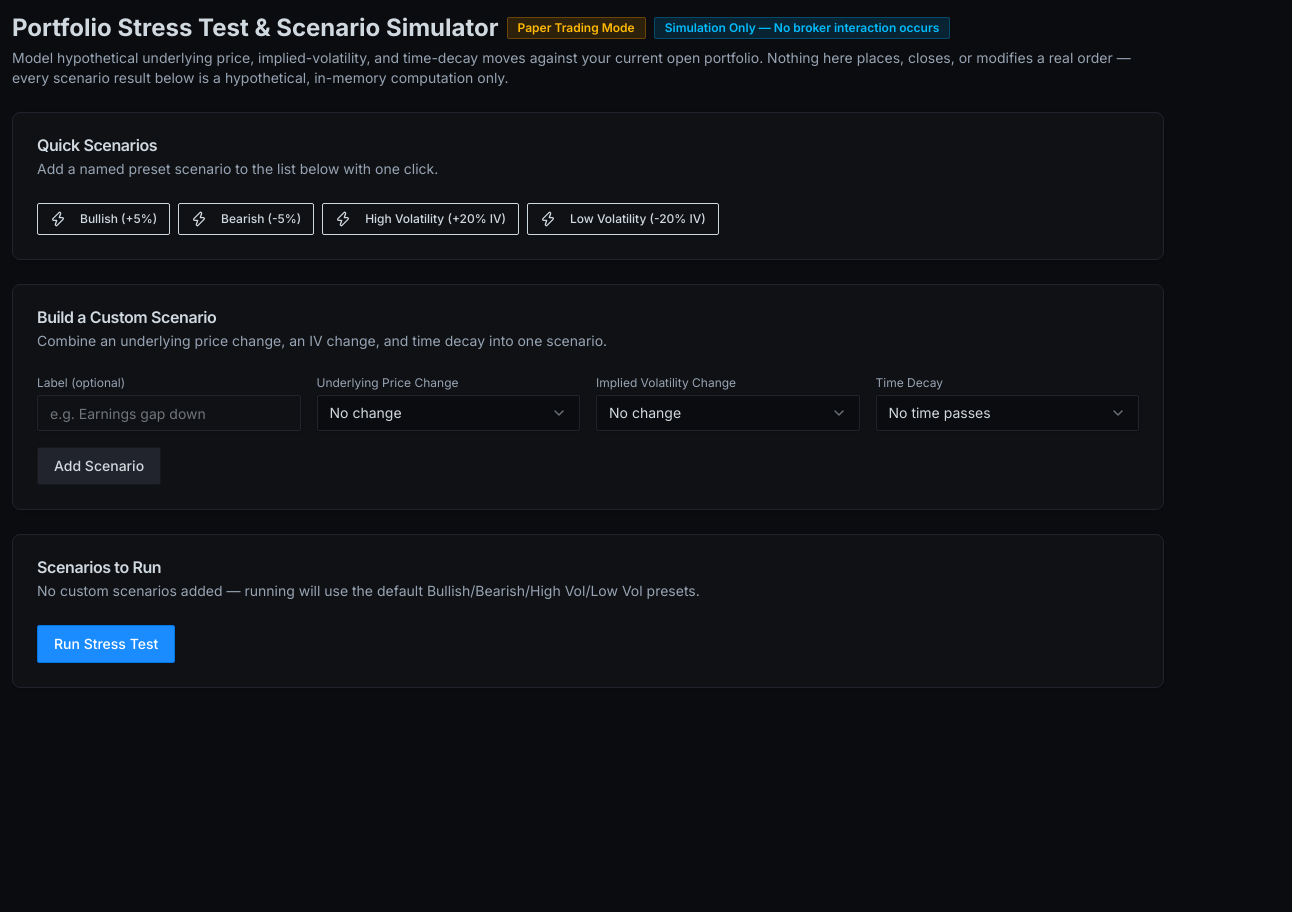
Test case: PortfolioStressTest page › removing a queued scenario removes it from the list
Step 1. Click the button with test id "button-quick-scenario-Bearish-5-" → (246, 219), box x1=178 y1=203 x2=314 y2=235
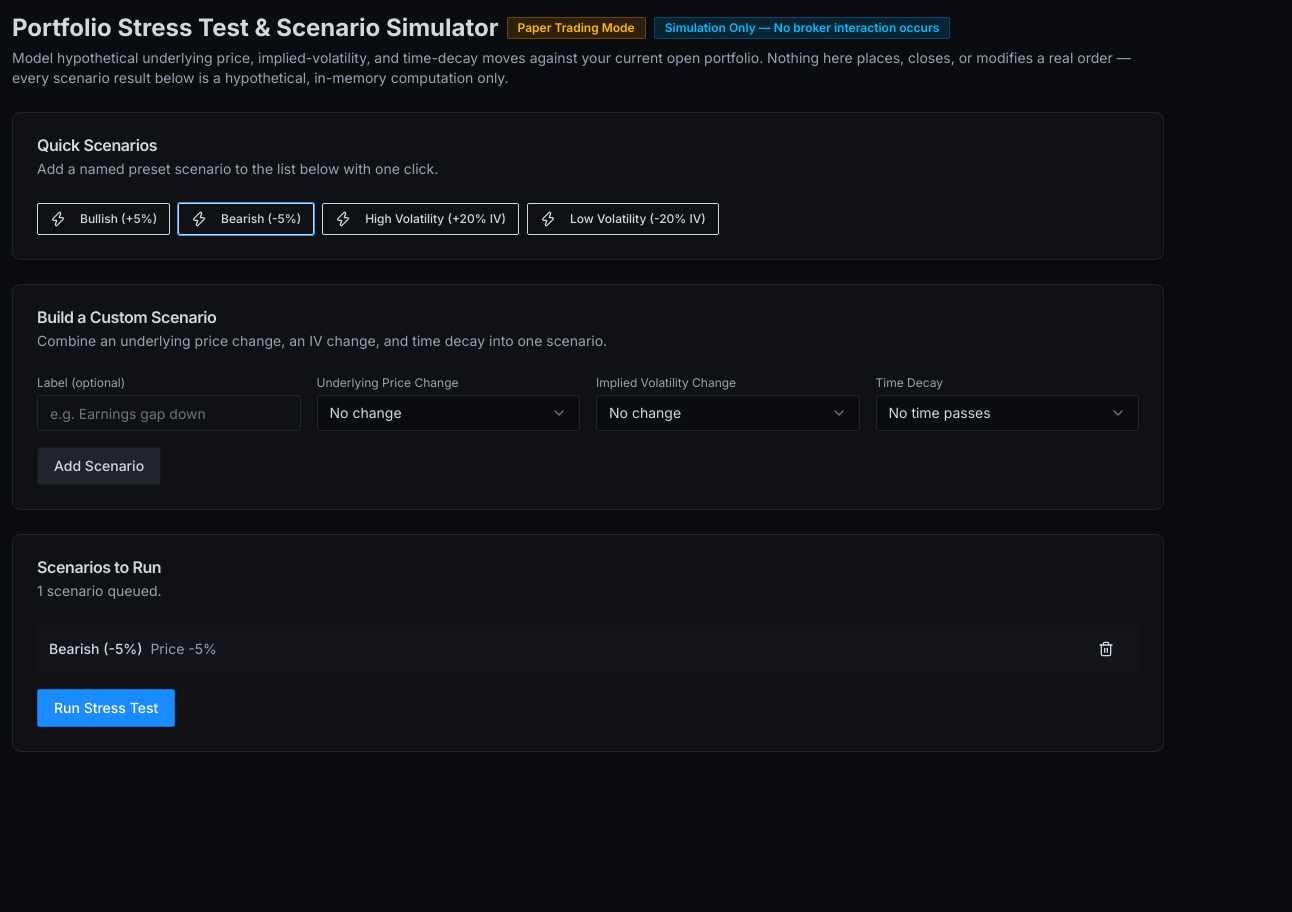
Step 2. Click the button with test id "^button-remove-scenario-" → (1106, 649), box x1=1085 y1=633 x2=1127 y2=665
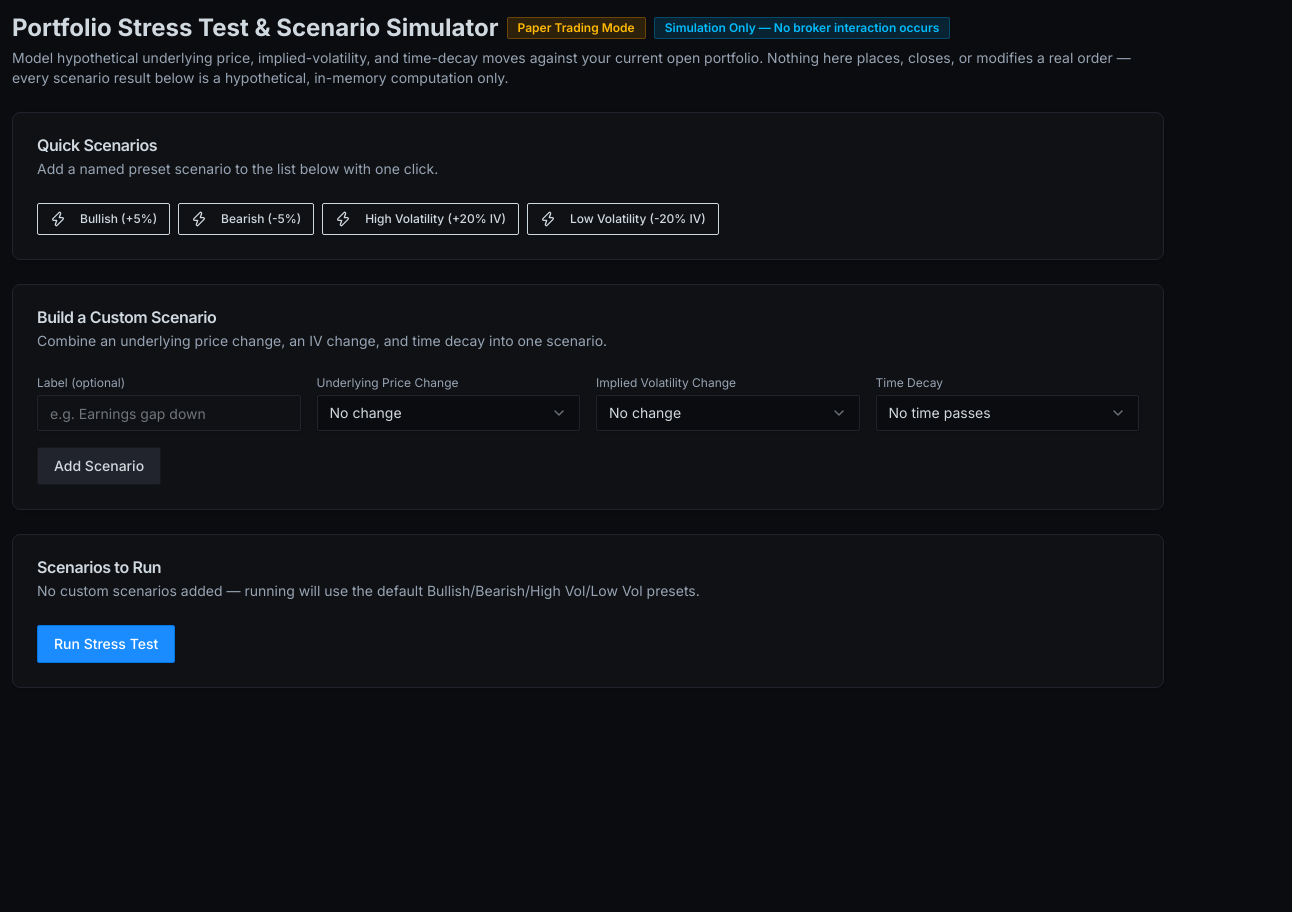
Now the list with test id "list-queued-scenarios" is gone
